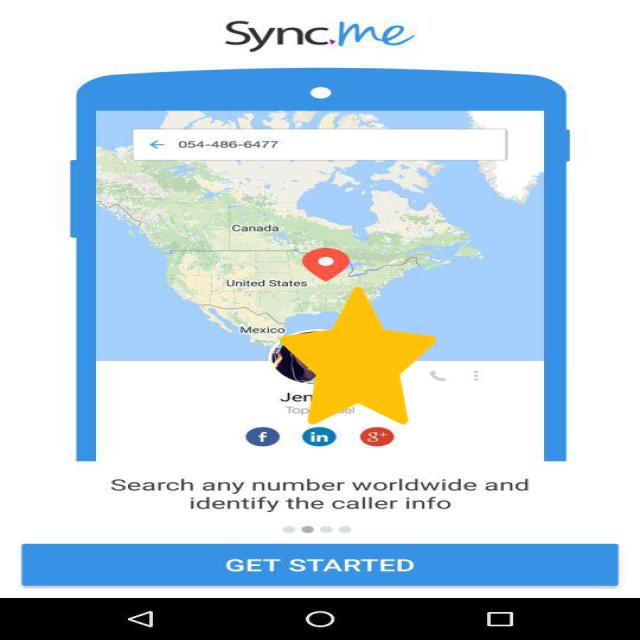forced continuity: (280, 286, 436, 424)
